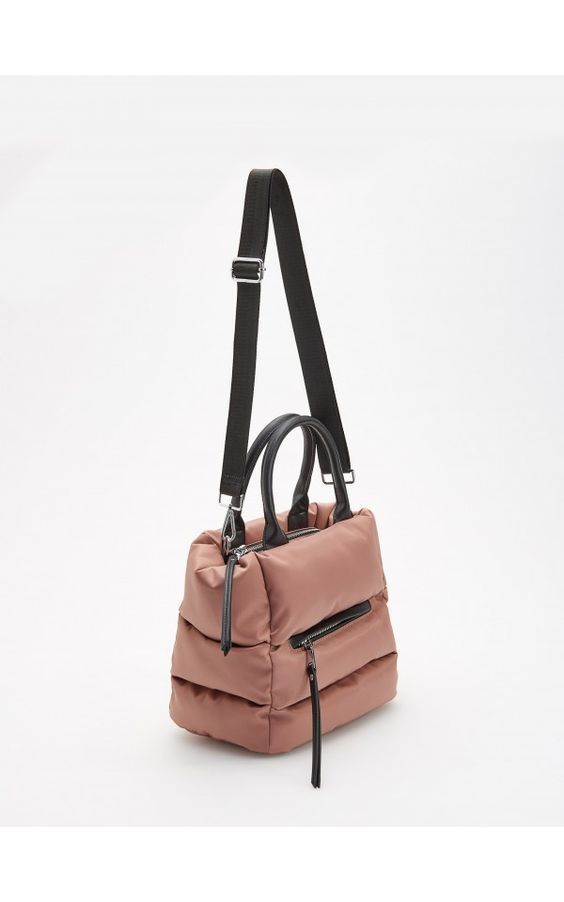nylon: (169, 159, 399, 758)
